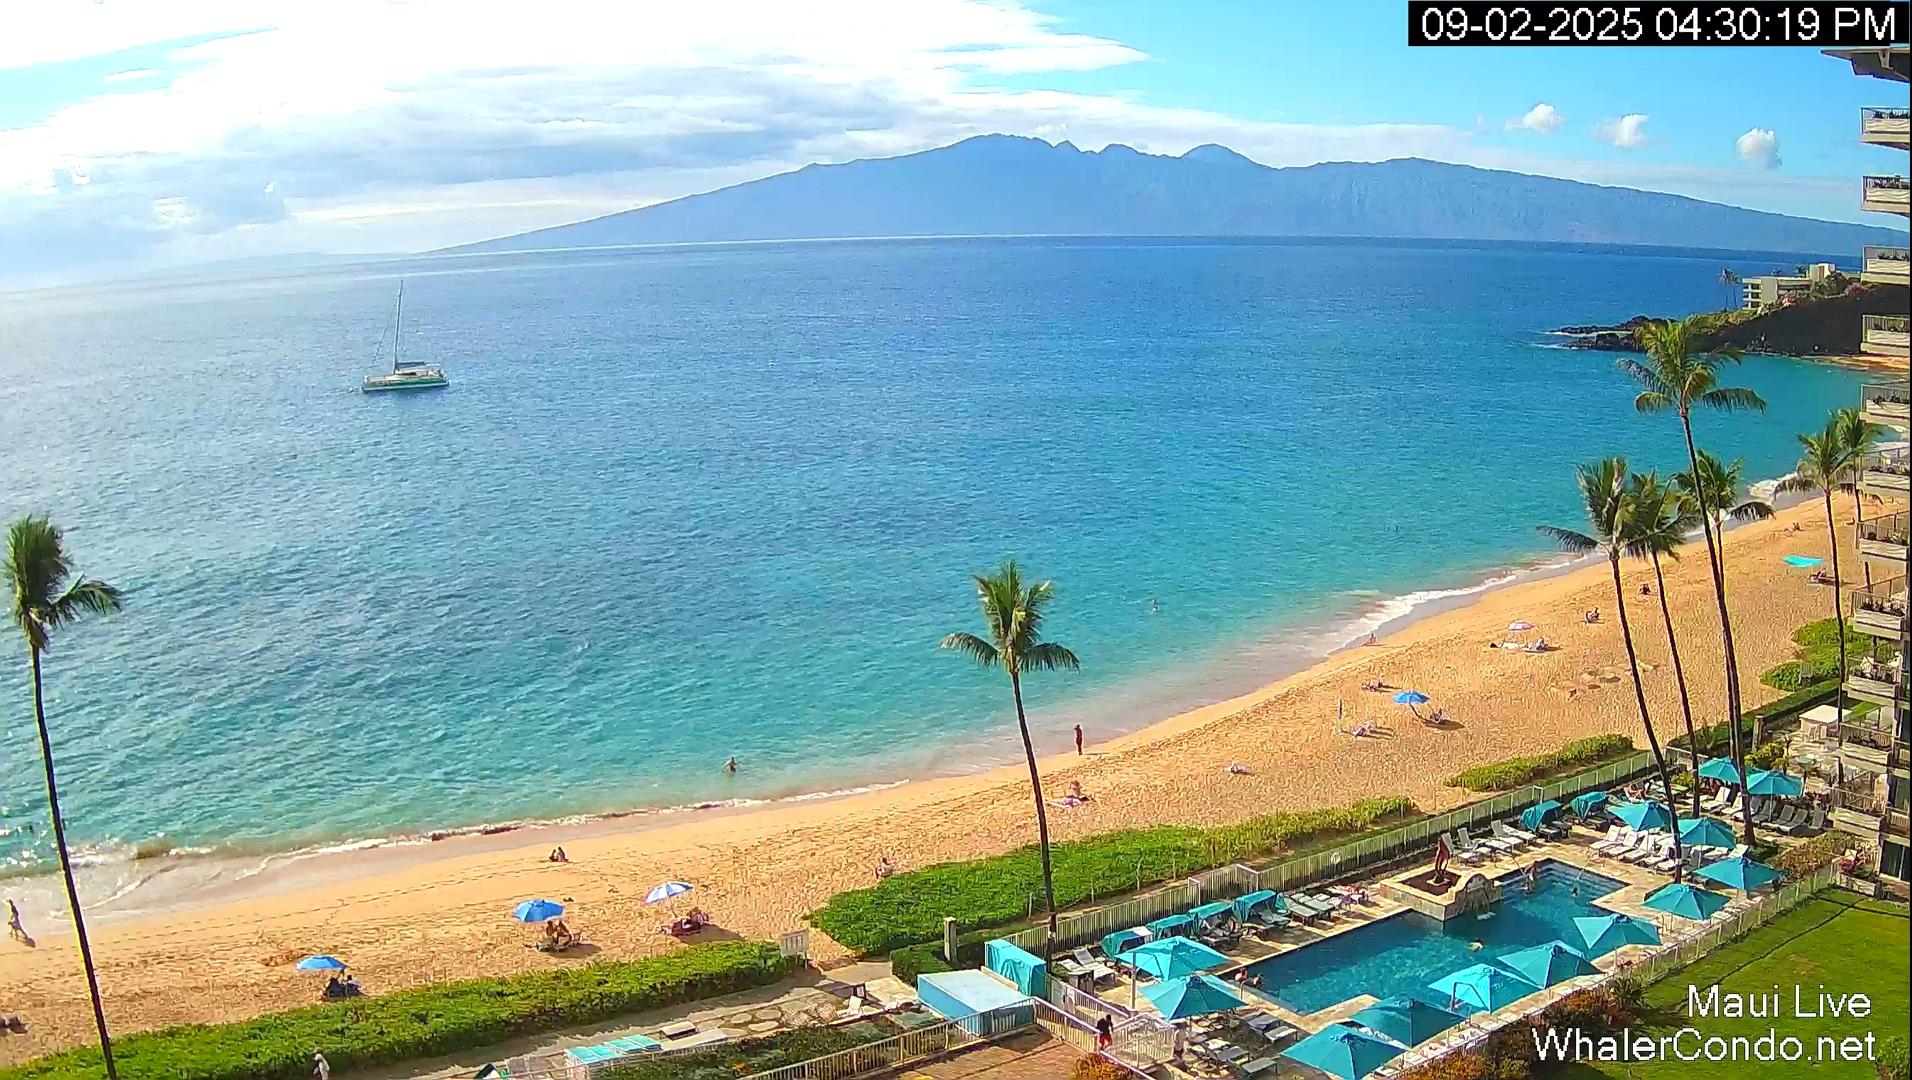boat: (361, 279, 450, 393)
person: (1061, 780, 1094, 807), (1096, 1014, 1114, 1051), (312, 1050, 330, 1080), (1525, 860, 1540, 894), (7, 896, 19, 936), (876, 857, 896, 881), (346, 975, 362, 997), (1471, 936, 1485, 959), (1074, 724, 1084, 756), (1360, 632, 1380, 648), (1585, 604, 1601, 624), (1556, 1024, 1568, 1050), (1220, 760, 1240, 775), (1252, 972, 1266, 993), (1809, 567, 1829, 581), (1237, 964, 1248, 985), (548, 848, 564, 862), (545, 920, 558, 937), (554, 920, 569, 934), (556, 846, 568, 862), (728, 756, 738, 773), (1790, 519, 1802, 531), (1640, 583, 1650, 596), (1572, 887, 1579, 905), (1147, 594, 1157, 603), (1151, 605, 1160, 612)
